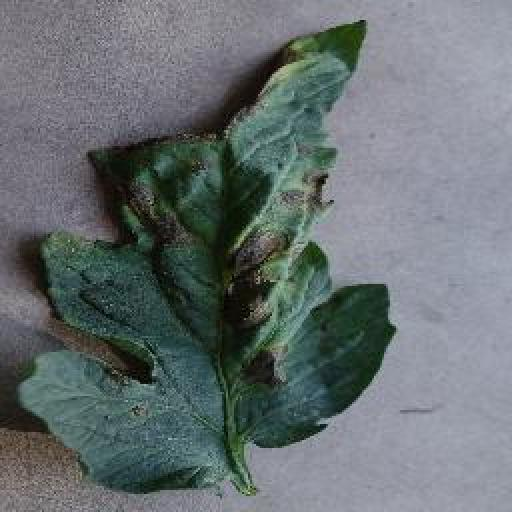disease_tomato: (15, 22, 398, 498)
